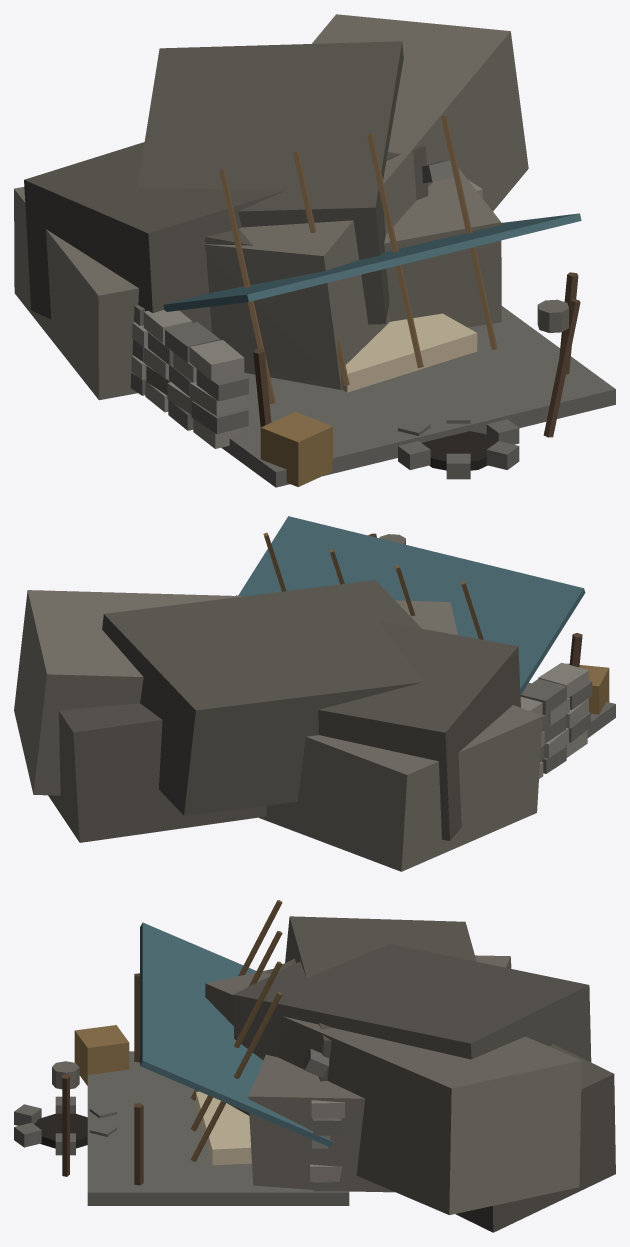
Rendered from M_LeanToRock.glb.
The picture shows the model from 3 angles, top to bottom: view 1: azimuth 30°, elevation 25°; view 2: azimuth 150°, elevation 25°; view 3: azimuth 270°, elevation 25°; orthographic projection. The views are drawn at different scales.
Visible parts, largest first — view 1: M_LeanToRock_Foundation, M_LeanToRock_Props, M_LeanToRock_Roof, M_LeanToRock_Structure, M_LeanToRock_Fixtures; view 2: M_LeanToRock_Foundation, M_LeanToRock_Roof, M_LeanToRock_Structure, M_LeanToRock_Props; view 3: M_LeanToRock_Foundation, M_LeanToRock_Roof, M_LeanToRock_Props, M_LeanToRock_Structure, M_LeanToRock_Fixtures.
Boxes of the visible parts, x1,y1,x2,y2 form: M_LeanToRock_Foundation: (14,14,615,487); M_LeanToRock_Props: (260,299,580,486); M_LeanToRock_Roof: (163,115,581,404); M_LeanToRock_Structure: (130,180,482,448); M_LeanToRock_Fixtures: (253,272,578,427); M_LeanToRock_Foundation: (14,580,615,871); M_LeanToRock_Roof: (238,516,585,694); M_LeanToRock_Structure: (520,662,592,778); M_LeanToRock_Props: (368,533,609,714); M_LeanToRock_Foundation: (87,916,615,1232); M_LeanToRock_Roof: (140,900,333,1161); M_LeanToRock_Props: (14,1025,251,1176); M_LeanToRock_Structure: (310,1100,344,1191); M_LeanToRock_Fixtures: (134,973,143,1185).
Size of the model in its own units: 6.93 by 2.91 by 8.28.
